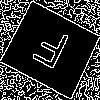F: (26, 24, 72, 79)
